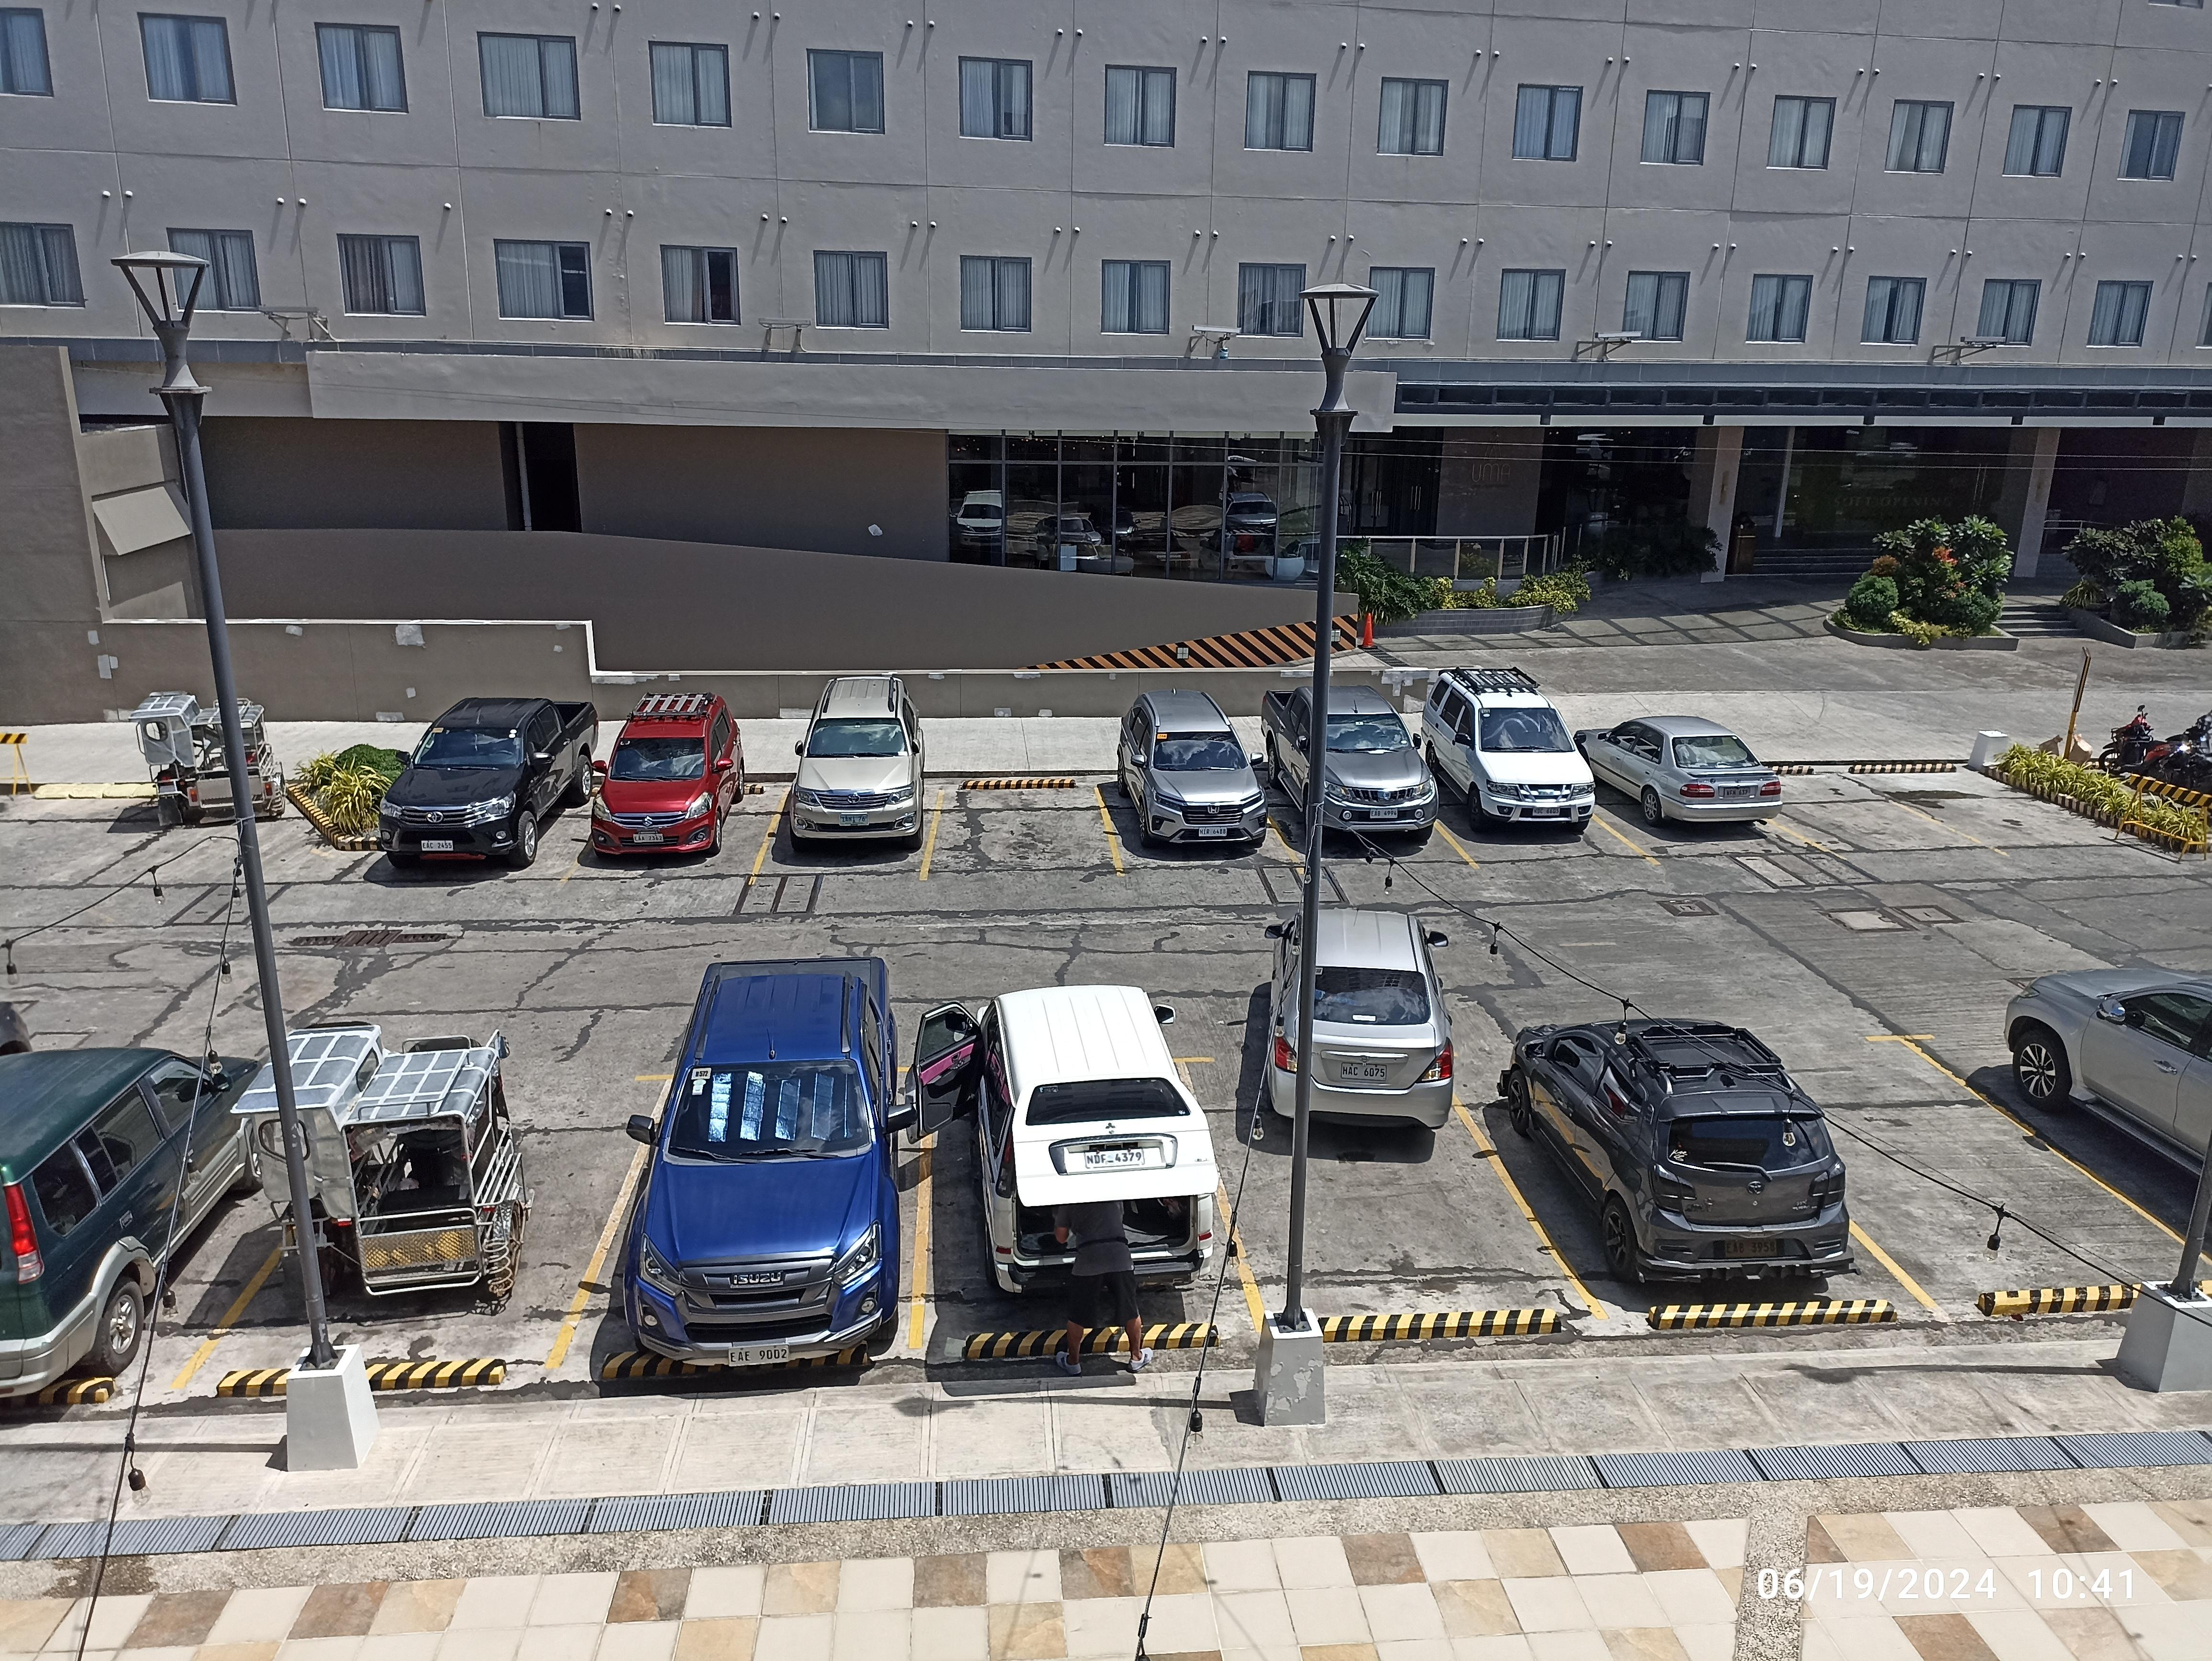occupied: (164, 1070, 684, 1396), (1423, 1049, 1952, 1340), (537, 1066, 932, 1384), (911, 1056, 1275, 1363), (1373, 745, 1671, 871), (1233, 748, 1488, 876), (1090, 762, 1308, 881), (555, 783, 795, 886), (747, 787, 946, 883)
vacant: (1675, 1035, 2212, 1321), (1174, 1049, 1617, 1349), (1683, 766, 2013, 864), (919, 780, 1125, 879)
